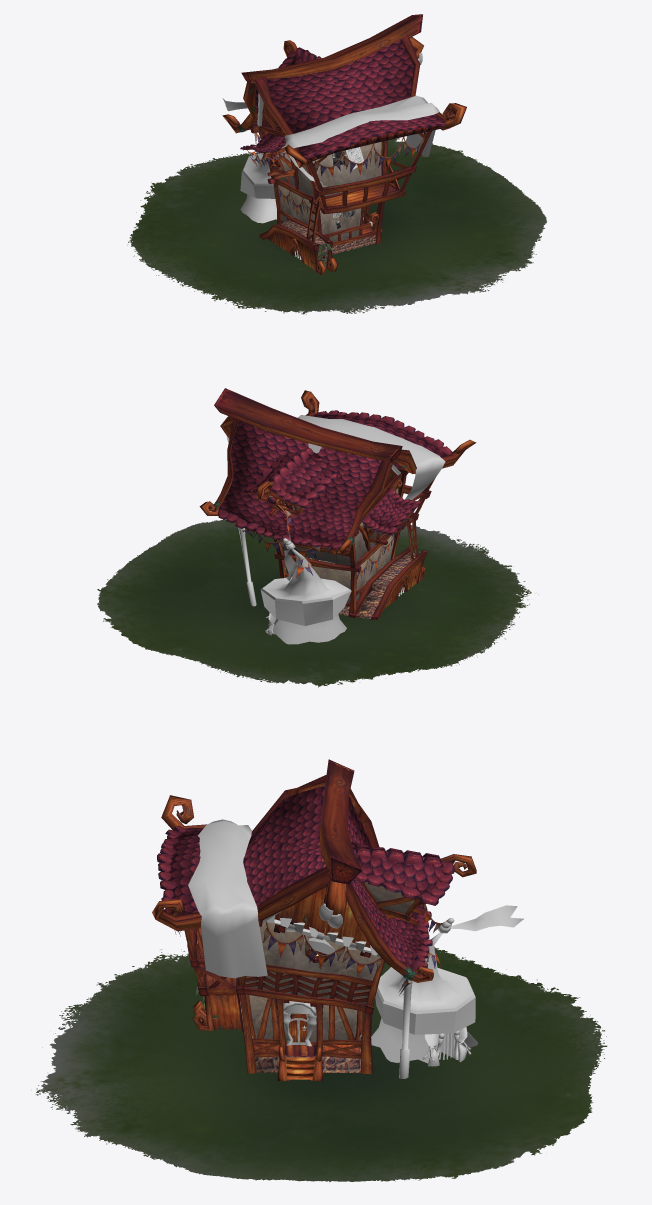
The picture shows the model from 3 angles, top to bottom: view 1: azimuth 30°, elevation 25°; view 2: azimuth 150°, elevation 25°; view 3: azimuth 270°, elevation 25°; orthographic projection. The views are drawn at different scales.
Parts seen in each view (by area): view 1: Plane001, House001; view 2: House001, Plane001; view 3: Plane001, House001.
Part boxes in pixels (x1,y1,x2,y2): Plane001: (127,138,546,314); House001: (222,14,466,274); House001: (199,388,476,644); Plane001: (97,519,538,687); Plane001: (35,947,607,1182); House001: (152,759,523,1080).
Size of the model in its own units: 2746 by 1347 by 2658.
